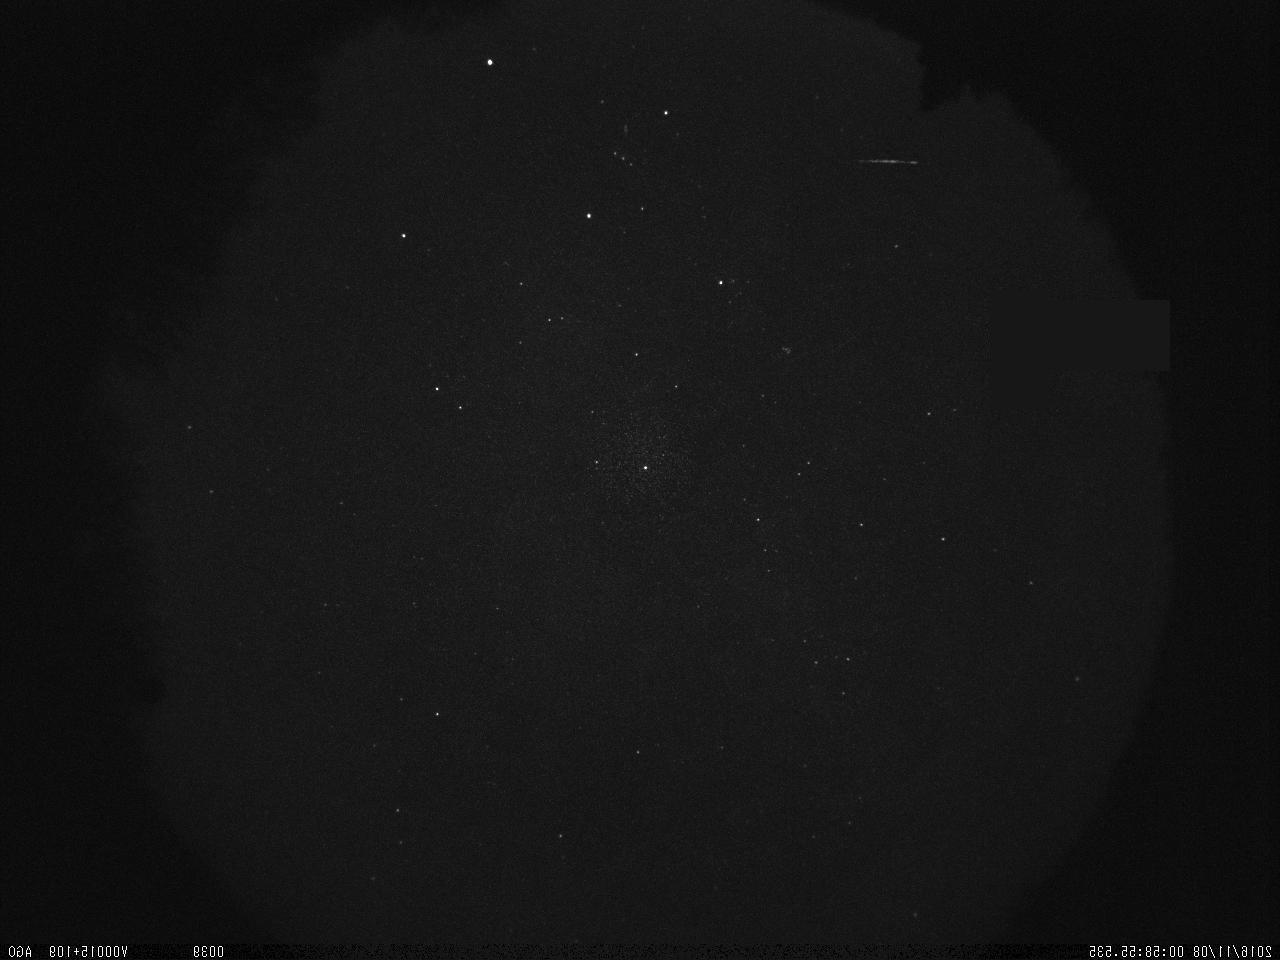meteor: (833, 147, 940, 178)
